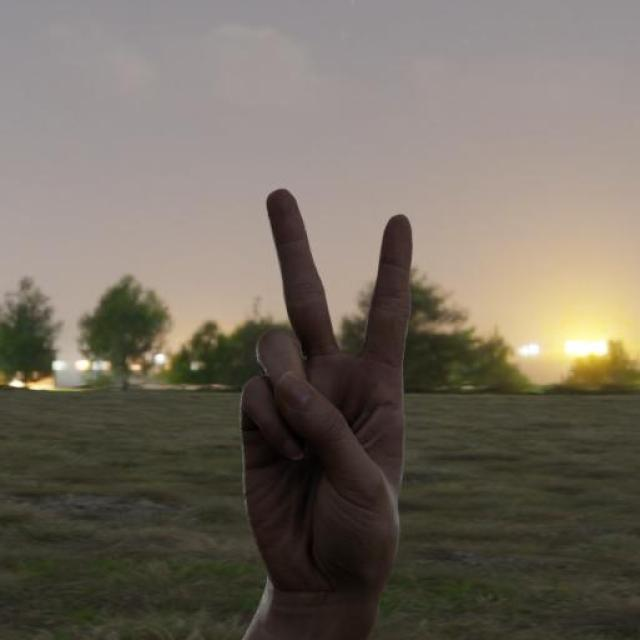V: (237, 182, 417, 608)
